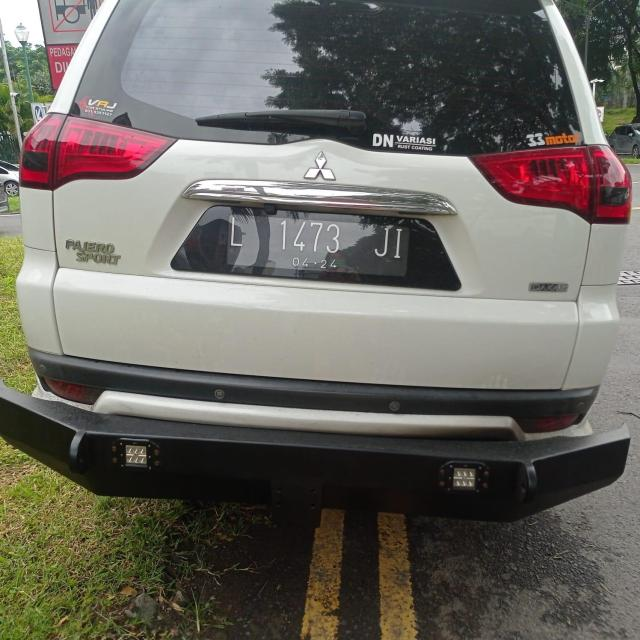license-plate: (227, 210, 413, 275)
